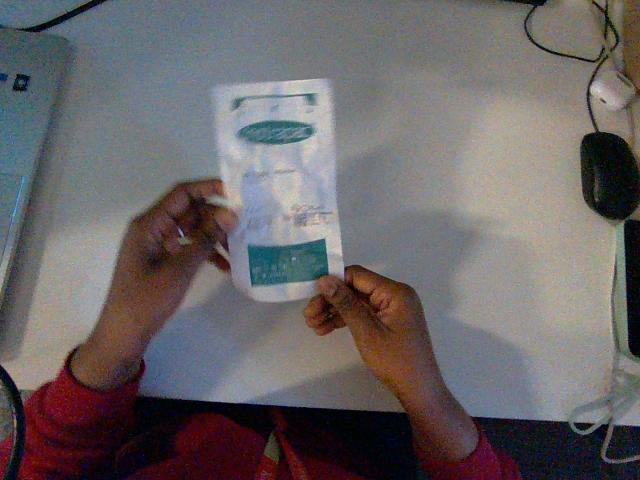gallipot: (213, 80, 343, 301)
